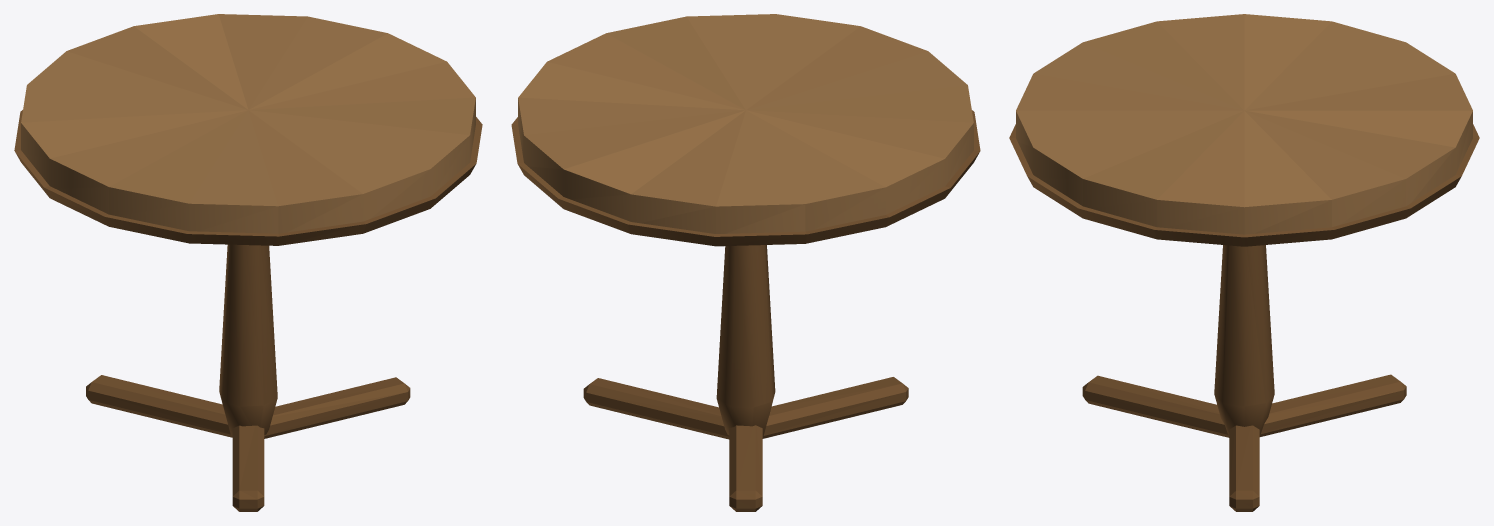
The model's file is side_table.glb.
The picture shows the model from 3 angles, left to right: view 1: azimuth 30°, elevation 25°; view 2: azimuth 150°, elevation 25°; view 3: azimuth 270°, elevation 25°; orthographic projection.
Parts seen in each view (by area): view 1: side_table; view 2: side_table; view 3: side_table.
Part boxes in pixels (x1,y1,x2,y2): side_table: [14, 14, 482, 511]; side_table: [511, 14, 980, 511]; side_table: [1009, 14, 1479, 511].
Size of the model in its own units: 0.7 by 0.545 by 0.7.
